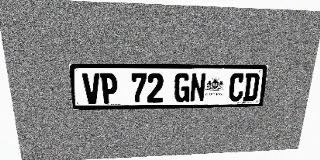2: (147, 73, 163, 103)
7: (130, 73, 147, 103)
C: (228, 73, 245, 101)
D: (242, 73, 260, 101)
G: (174, 73, 190, 102)
N: (190, 73, 206, 102)
P: (100, 73, 118, 104)
V: (82, 73, 101, 104)
